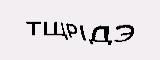А: (30, 34, 50, 59), (128, 28, 144, 51)
И: (53, 36, 80, 60)
Щ: (88, 34, 127, 60)
Э: (15, 30, 29, 51)
